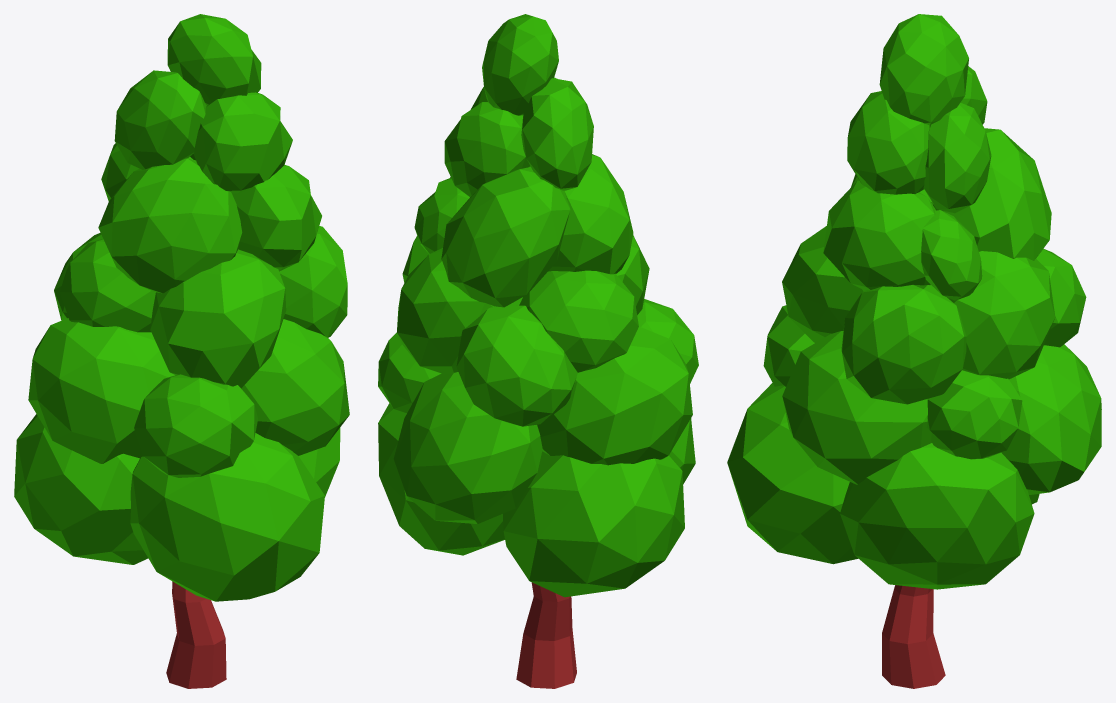
Rendered from PoplarTree.fbx.
3 views of the same model, side by side, from view 1: azimuth 30°, elevation 25°; view 2: azimuth 150°, elevation 25°; view 3: azimuth 270°, elevation 25° (orthographic). The views are drawn at different scales.
Parts seen in each view (by area): view 1: Poplar; view 2: Poplar; view 3: Poplar.
Part boxes in pixels (box(x1,y1,x2,y2)): Poplar: box(14, 14, 349, 688); Poplar: box(378, 14, 698, 688); Poplar: box(727, 14, 1101, 688).
Bounding box in the file's own units: 269 × 582 × 296.
